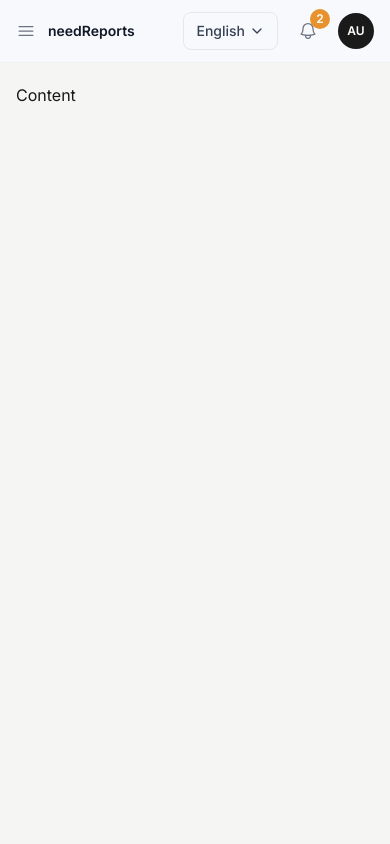
Test: Admin responsive navigation › closes the mobile drawer when Escape is pressed
This screenshot has width=390, height=844.
Click the button named "openMenu" at (26, 31), box [16,21,36,41]
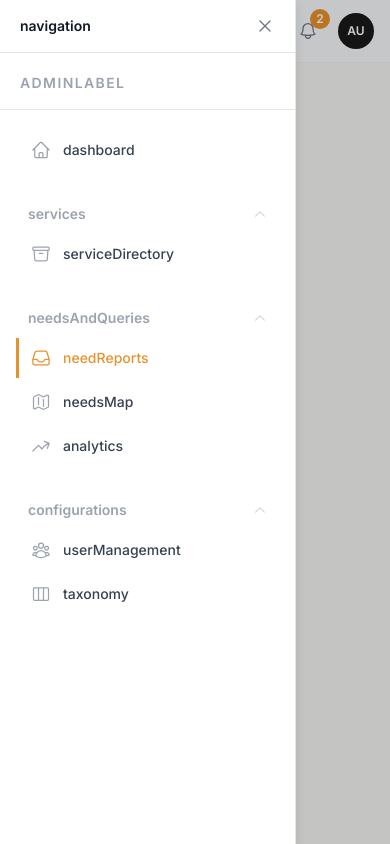
Expected: the dialog named "adminNavigation" is shown
Press Escape
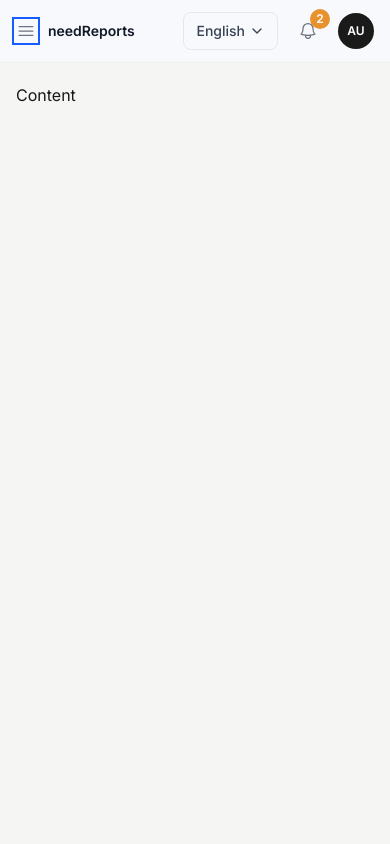
Expected: the dialog "adminNavigation" is gone
